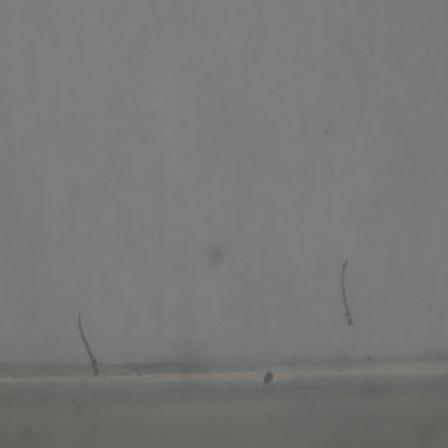Jentik-Nyamuk: (74, 313, 102, 379), (333, 259, 357, 329)
